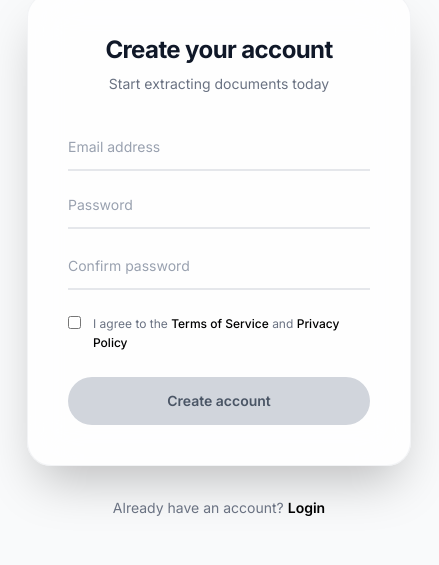
Scenario: signup page › creates the account and stores the token
Type "ada@example.com" into the field labelled "Email address" at (219, 154), box [68,136,370,170]
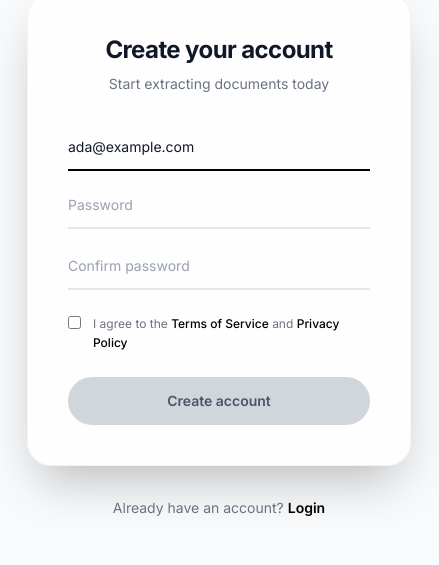
Type "Secret123" into the password field labelled "Password" at (219, 212), box [68,194,370,228]
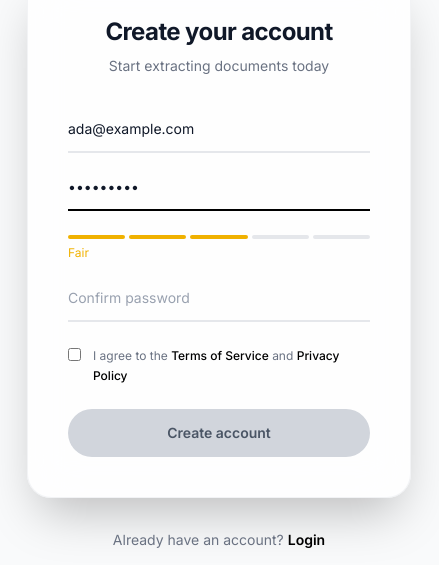
Type "Secret123" into the password field labelled "Confirm password" at (219, 305), box [68,288,370,322]
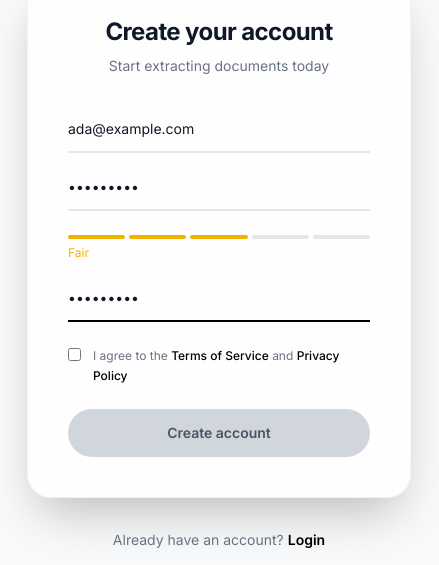
Click the checkbox at (74, 354), box [68,348,81,361]
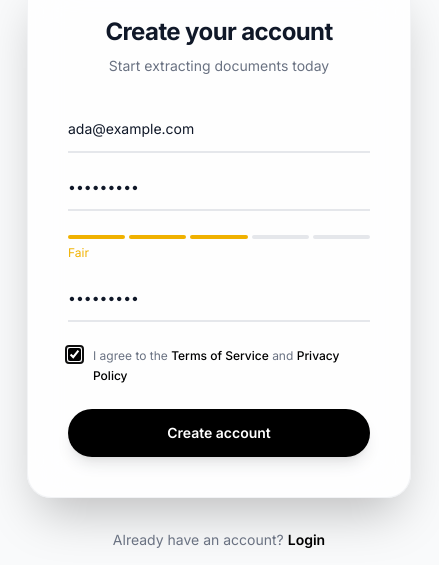
Click the button "Create account" at (219, 433), box [68,409,370,457]
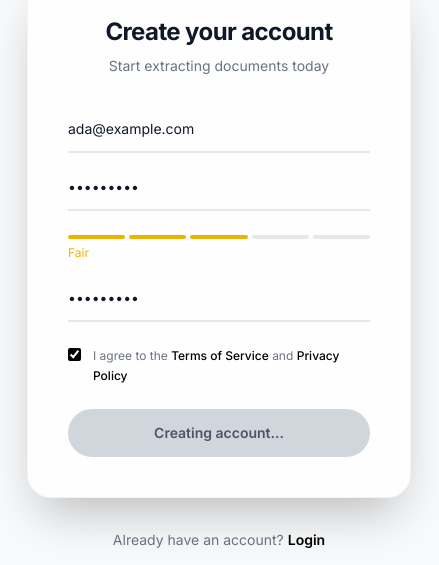
Now the button "Creating account..." is disabled, box [68,409,370,457]
